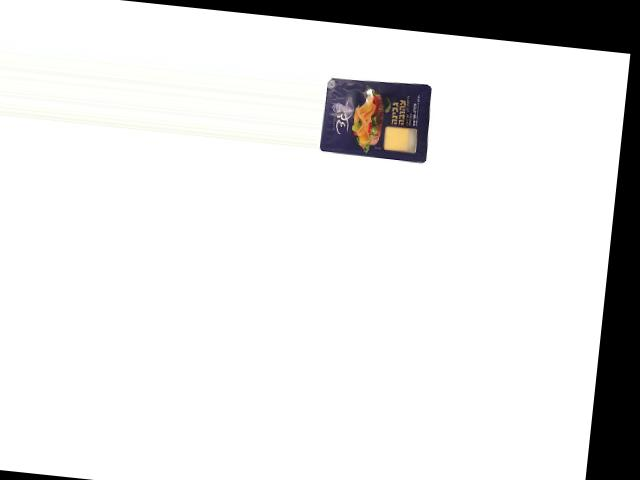cheese: (318, 71, 434, 163)
